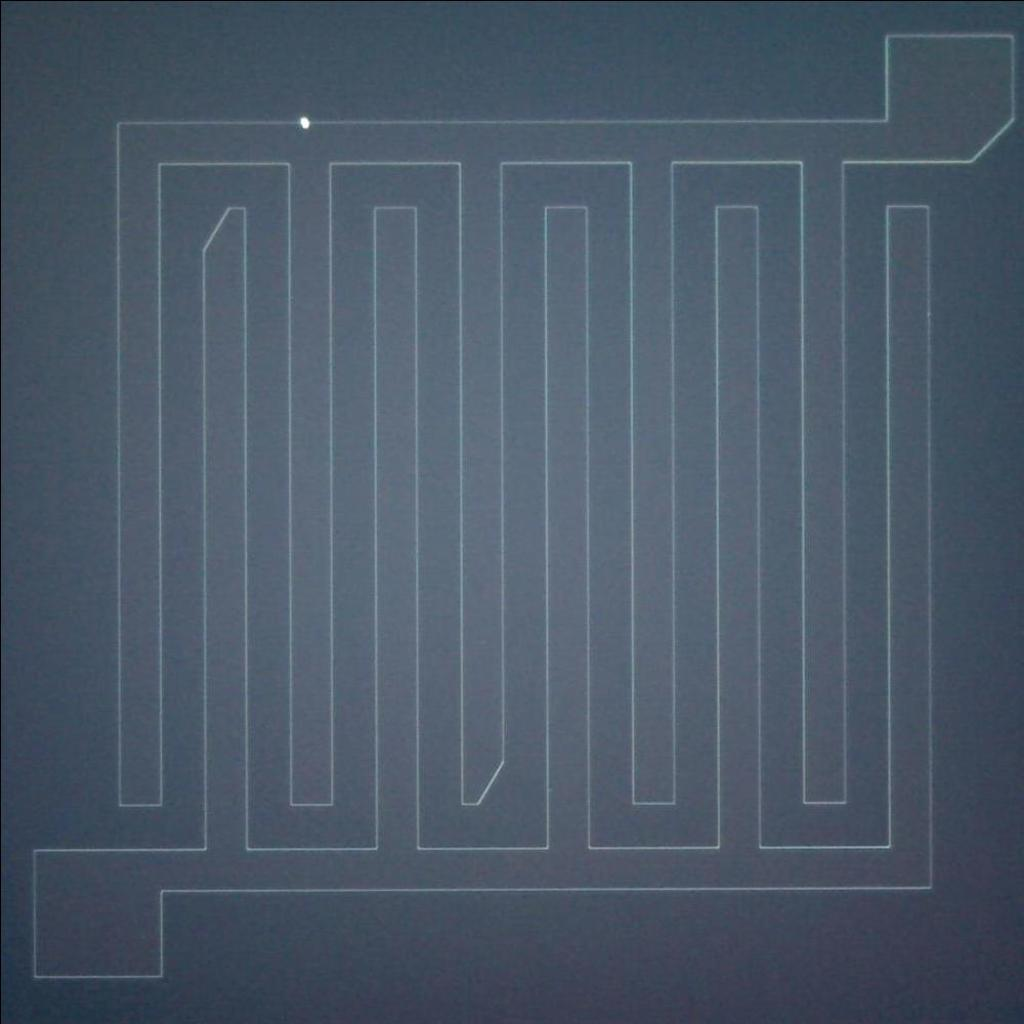edge circuit: (445, 740, 517, 824), (951, 100, 1023, 182), (192, 193, 255, 269)
spot: (290, 110, 319, 136)
